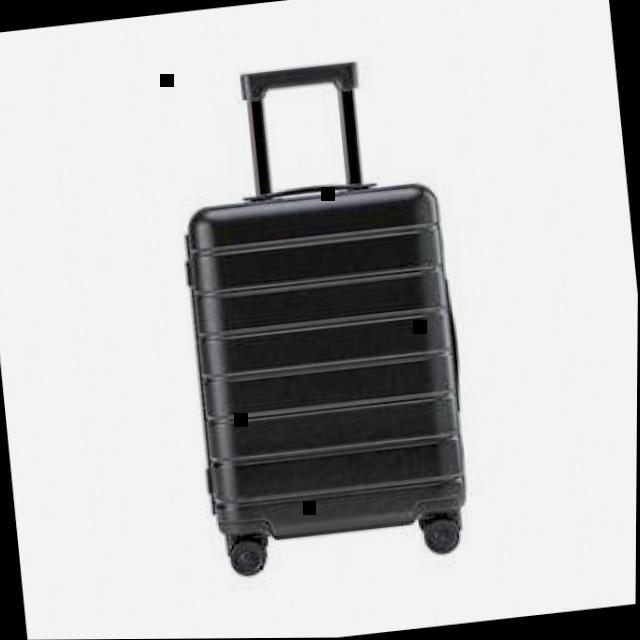luggage: (162, 160, 488, 582)
